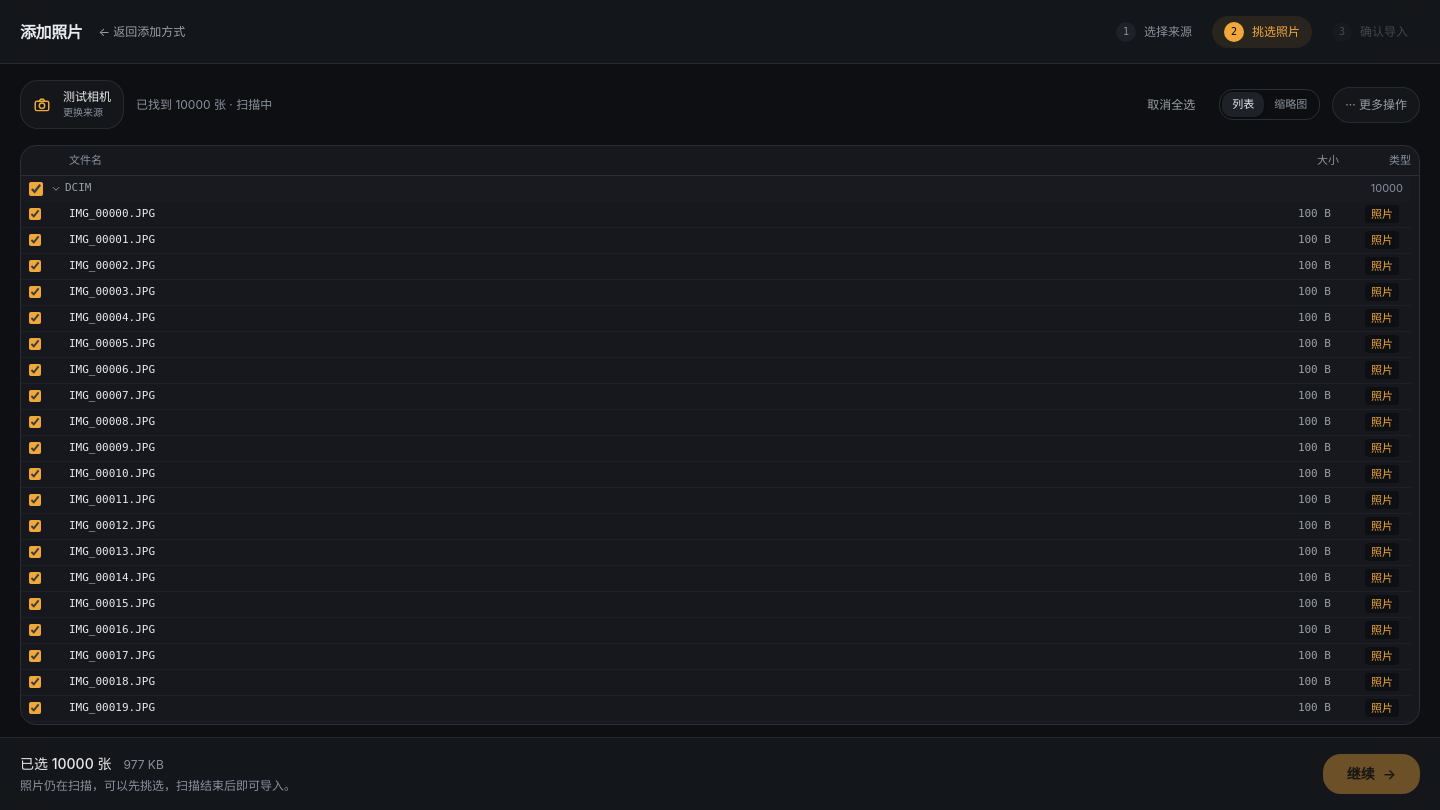
it: 挑选步：列表与网格 › 扫描万张照片时列表只渲染可见行，仍能切换视图和勾选
Expected: the text "IMG_00000.JPG" is shown, top-left (69, 207), bottom-right (155, 220)
Click the checkbox labelled "IMG_00000.JPG": [35, 214] box top-left (29, 208), bottom-right (41, 220)
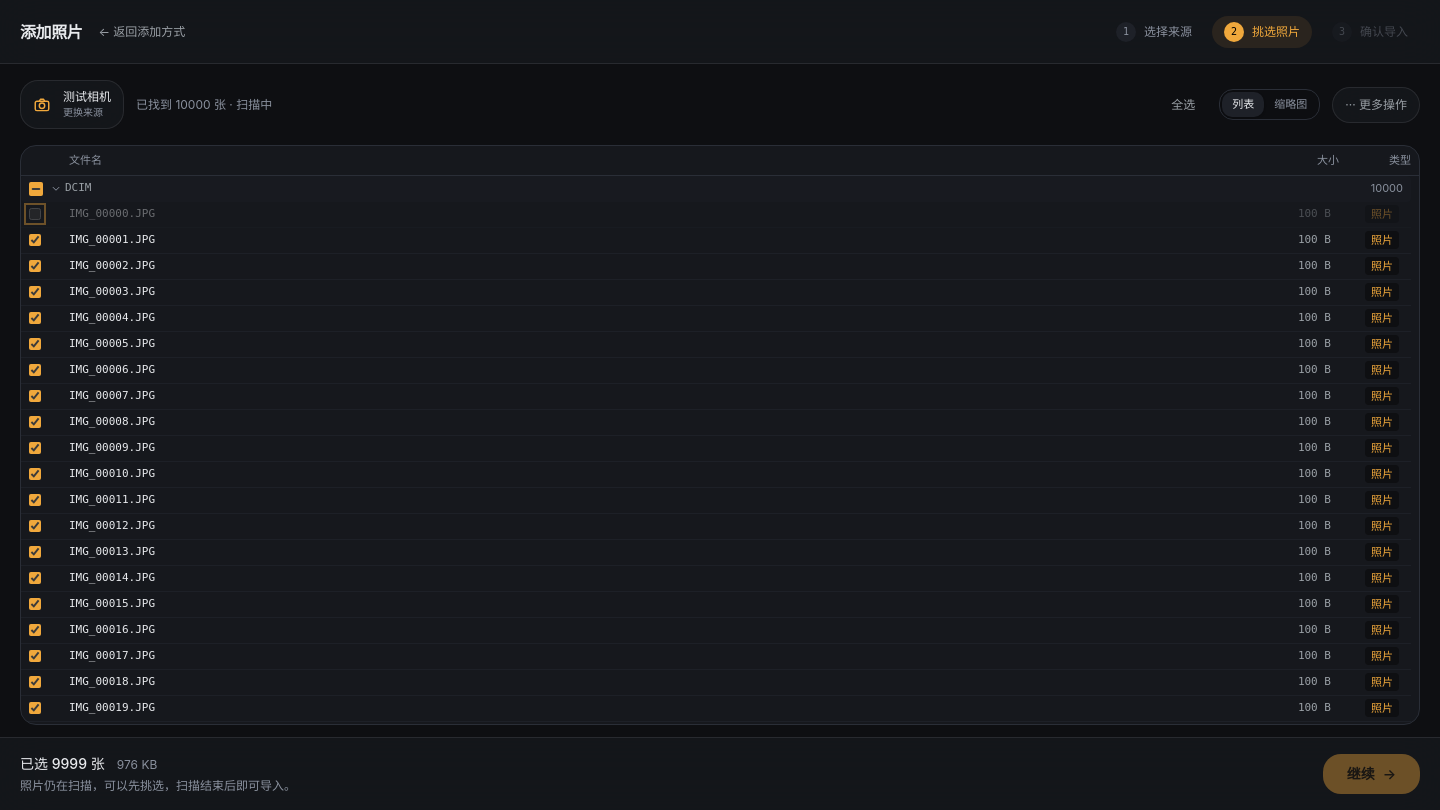
Now the checkbox labelled "IMG_00000.JPG" is not checked, box top-left (29, 208), bottom-right (41, 220)
Click the radio button with test id "wizard-view-grid": [1291, 105] box top-left (1264, 92), bottom-right (1317, 117)
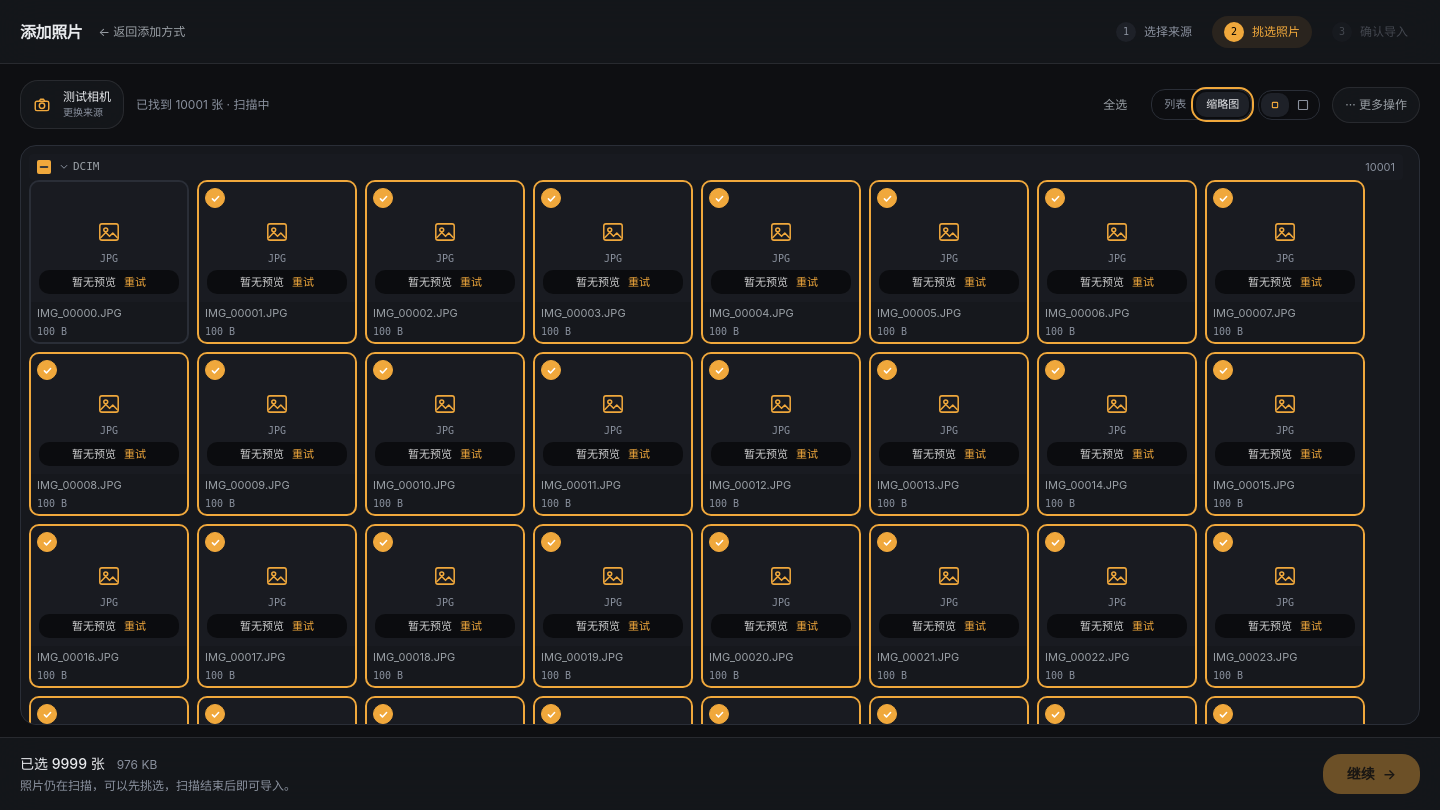
Now the element with test id "wizard-file-grid" is shown
